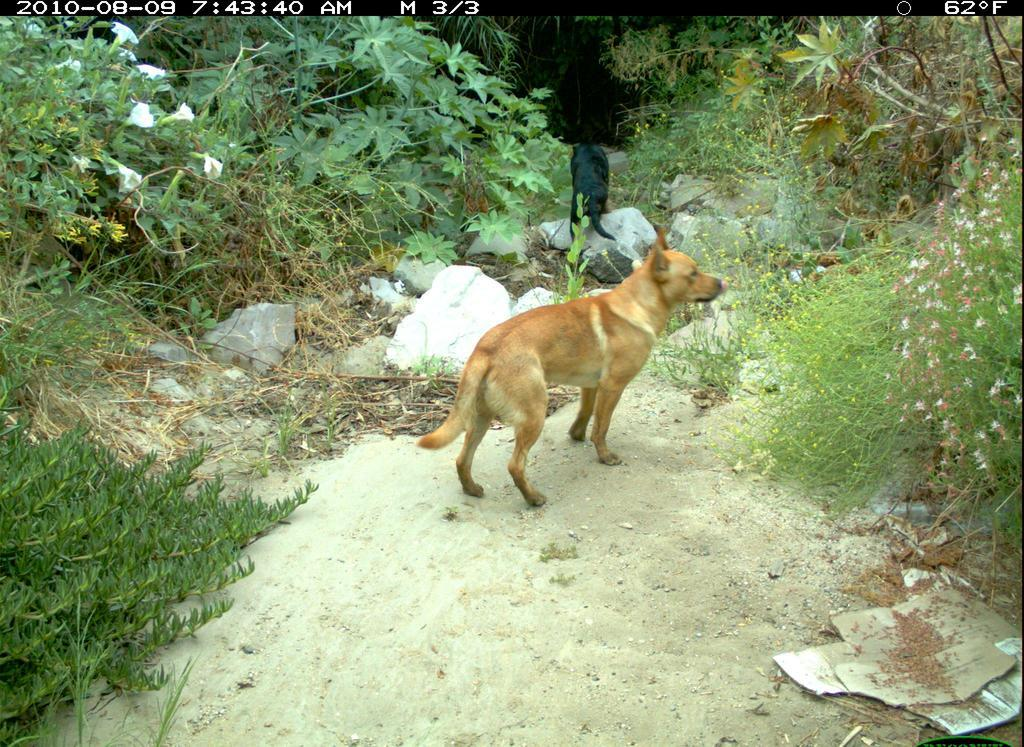dog: (414, 236, 730, 516), (553, 116, 643, 251)
